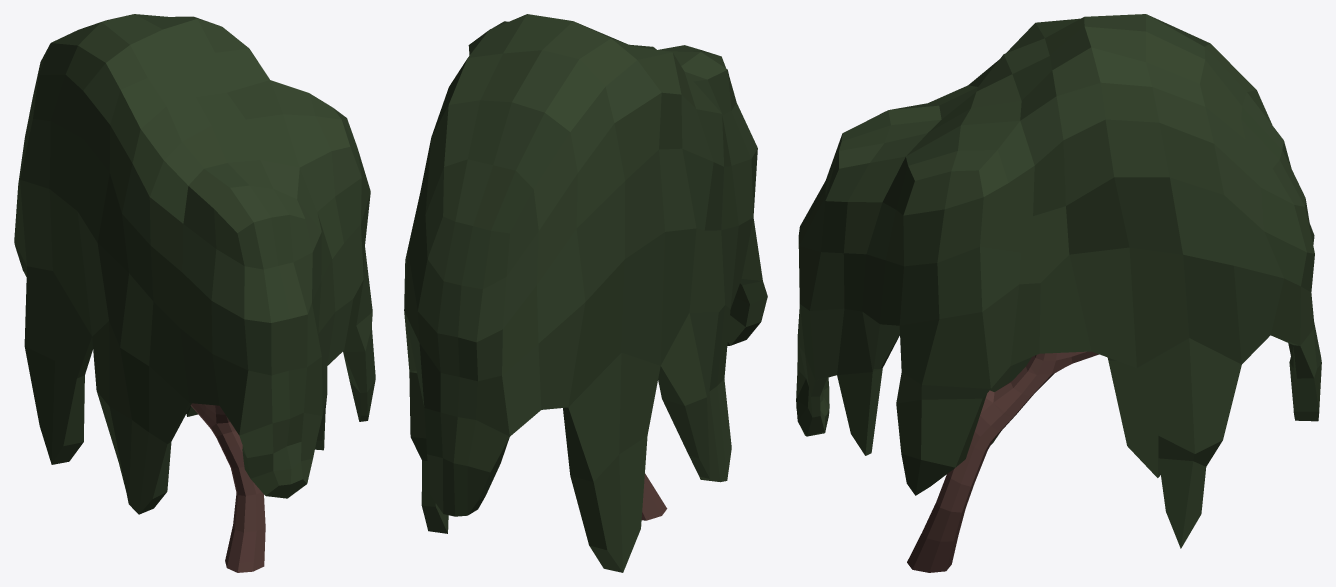
Rendered from Willow_1.glb.
3 views of the same model, side by side, from view 1: azimuth 30°, elevation 25°; view 2: azimuth 150°, elevation 25°; view 3: azimuth 270°, elevation 25° (orthographic). The views are drawn at different scales.
Bounding box in the file's own units: 1.45 × 2.85 × 2.55.
